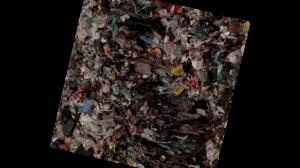Trash: (49, 0, 250, 168)
